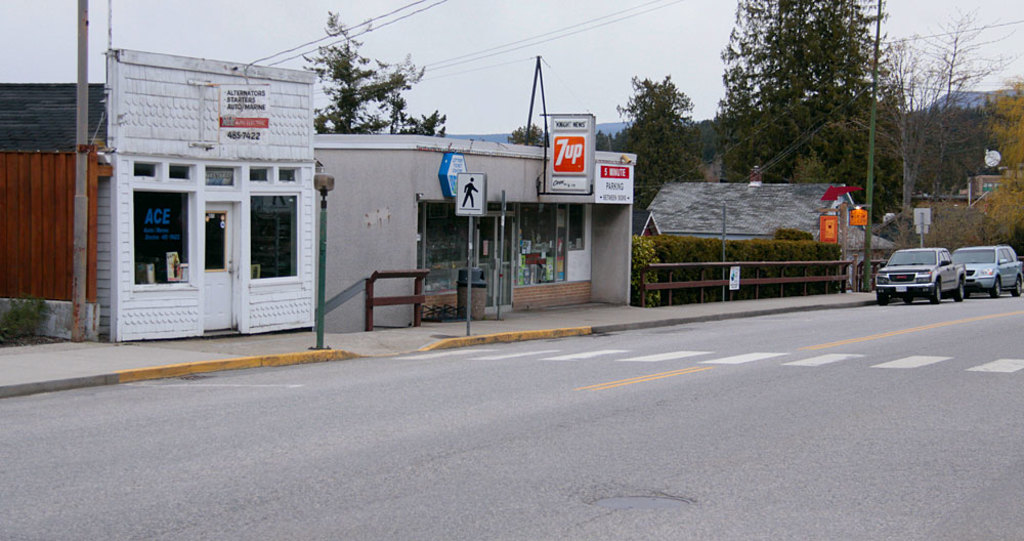Car: (871, 242, 969, 305), (952, 242, 1022, 297)
